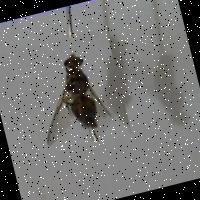Oriental-fruit-fly: (14, 28, 132, 156)
